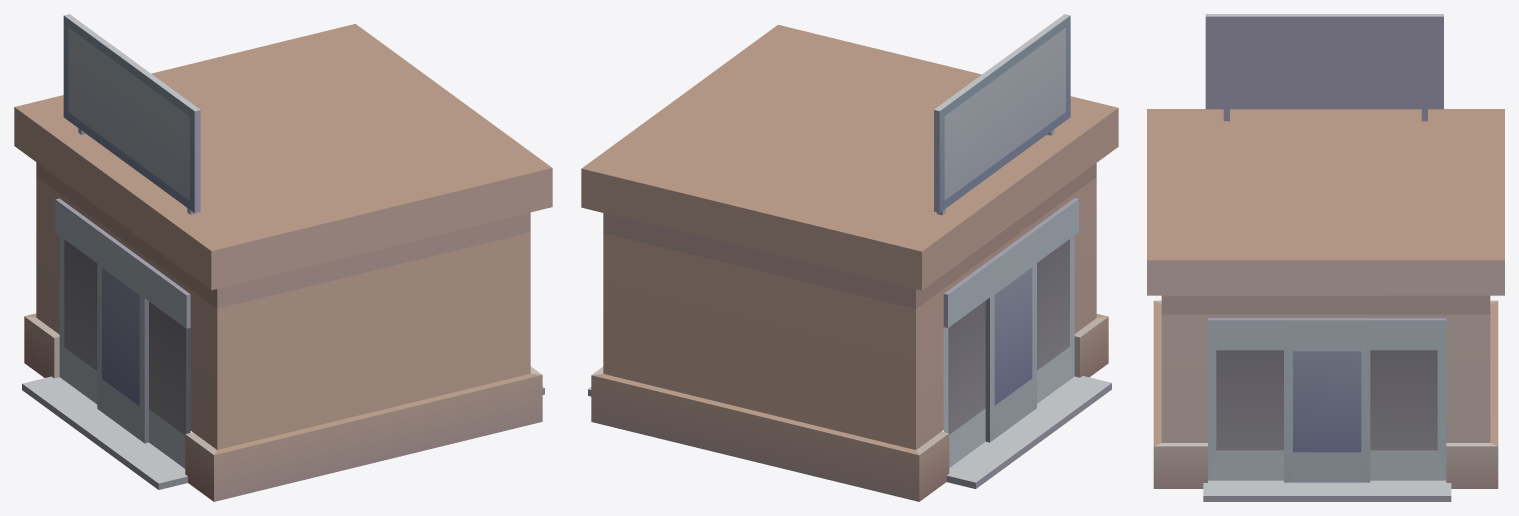
File: build_d.glb
The picture shows the model from 3 angles, left to right: view 1: azimuth 30°, elevation 25°; view 2: azimuth 150°, elevation 25°; view 3: azimuth 270°, elevation 25°; orthographic projection. The views are drawn at different scales.
Parts seen in each view (by area): view 1: build_d; view 2: build_d; view 3: build_d.
Part boxes in pixels (<box>): build_d: <box>14,14,552,501</box>; build_d: <box>581,14,1118,501</box>; build_d: <box>1147,14,1504,501</box>.
Bounding box in the file's own units: 1.24 × 1.12 × 1.09.
